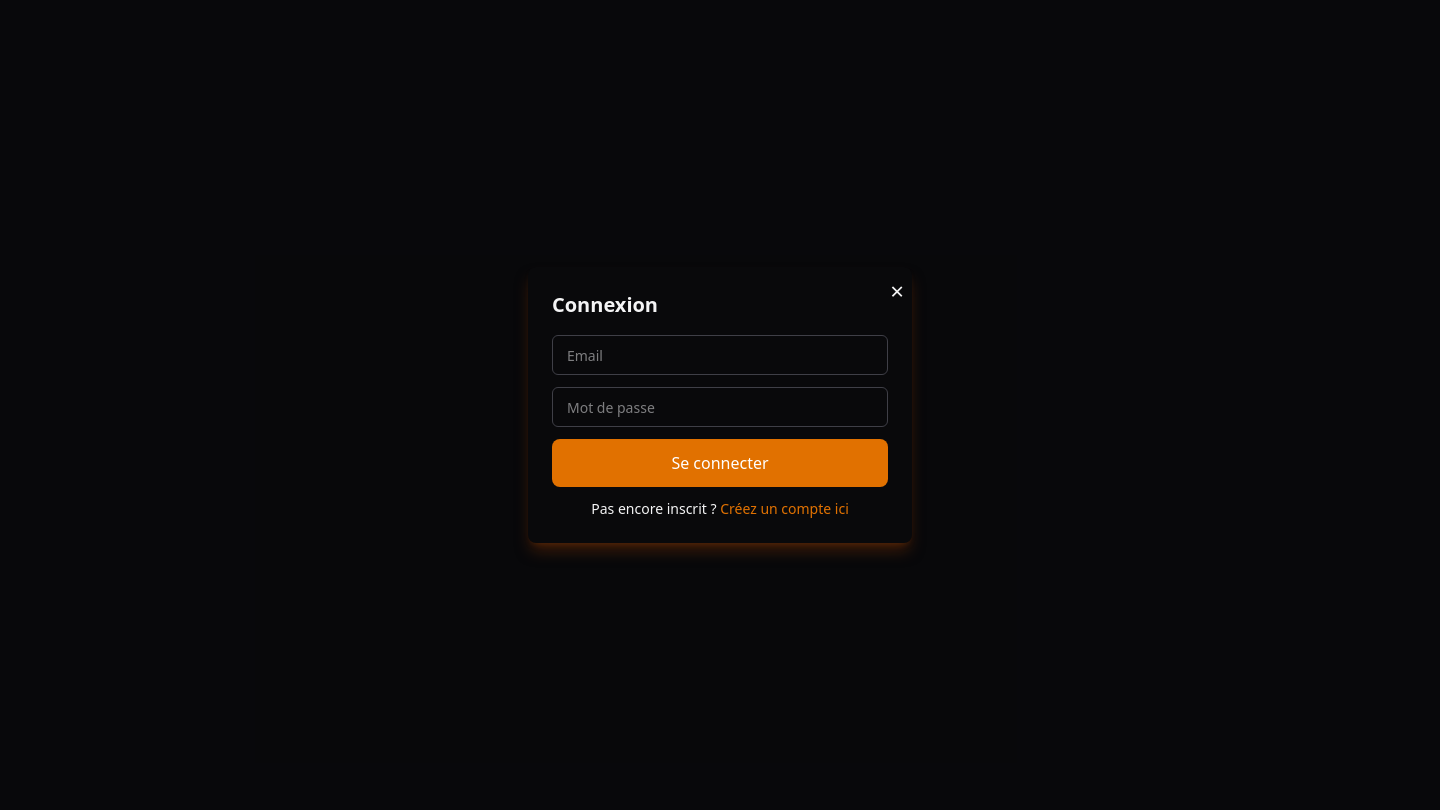
Test: LoginPage › shows the backend error message on failed login
In the field with placeholder "Email": (720,355) top-left (552, 335), bottom-right (888, 375), type "user@test.com"
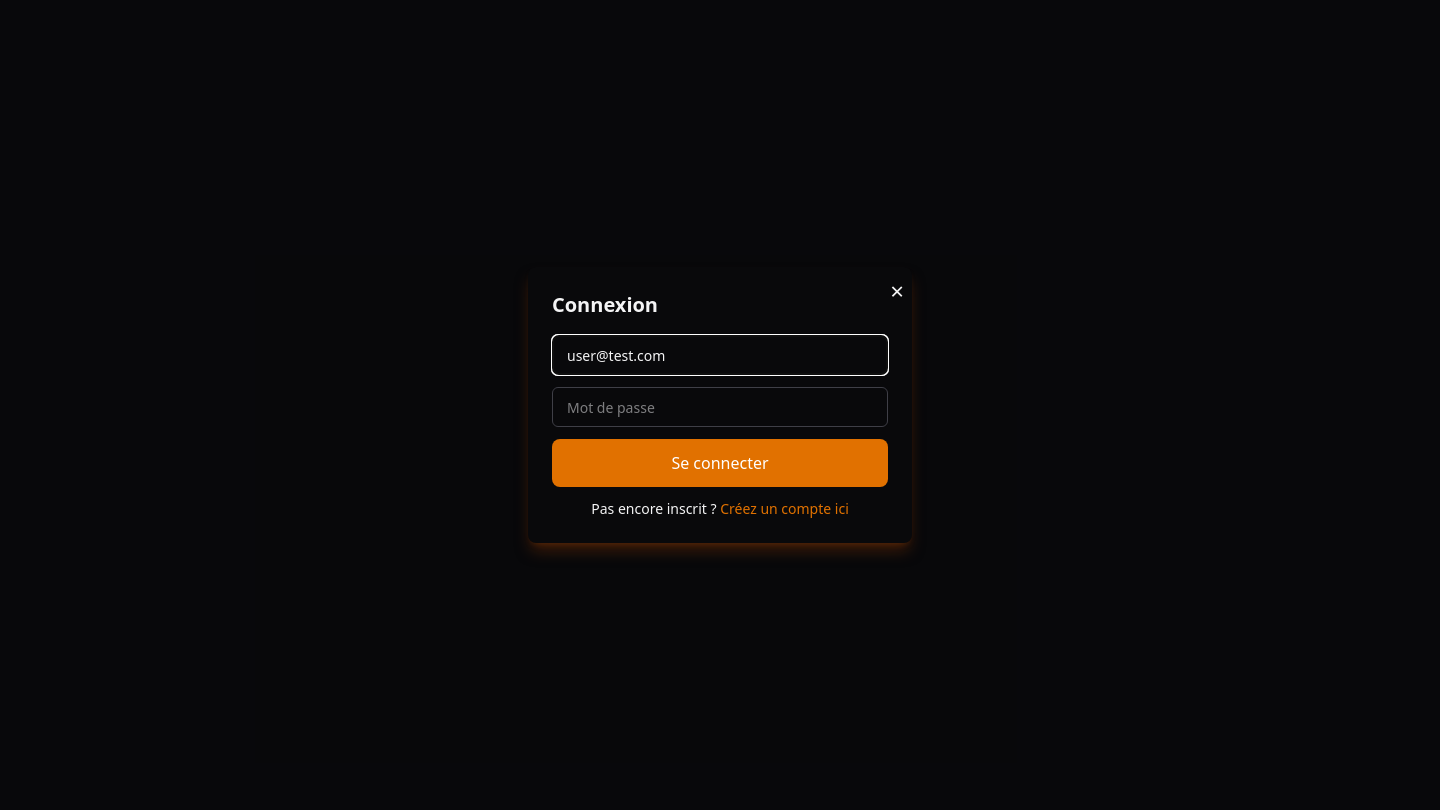
In the password field with placeholder "Mot de passe": (720,407) top-left (552, 387), bottom-right (888, 427), type "mauvais-mdp"
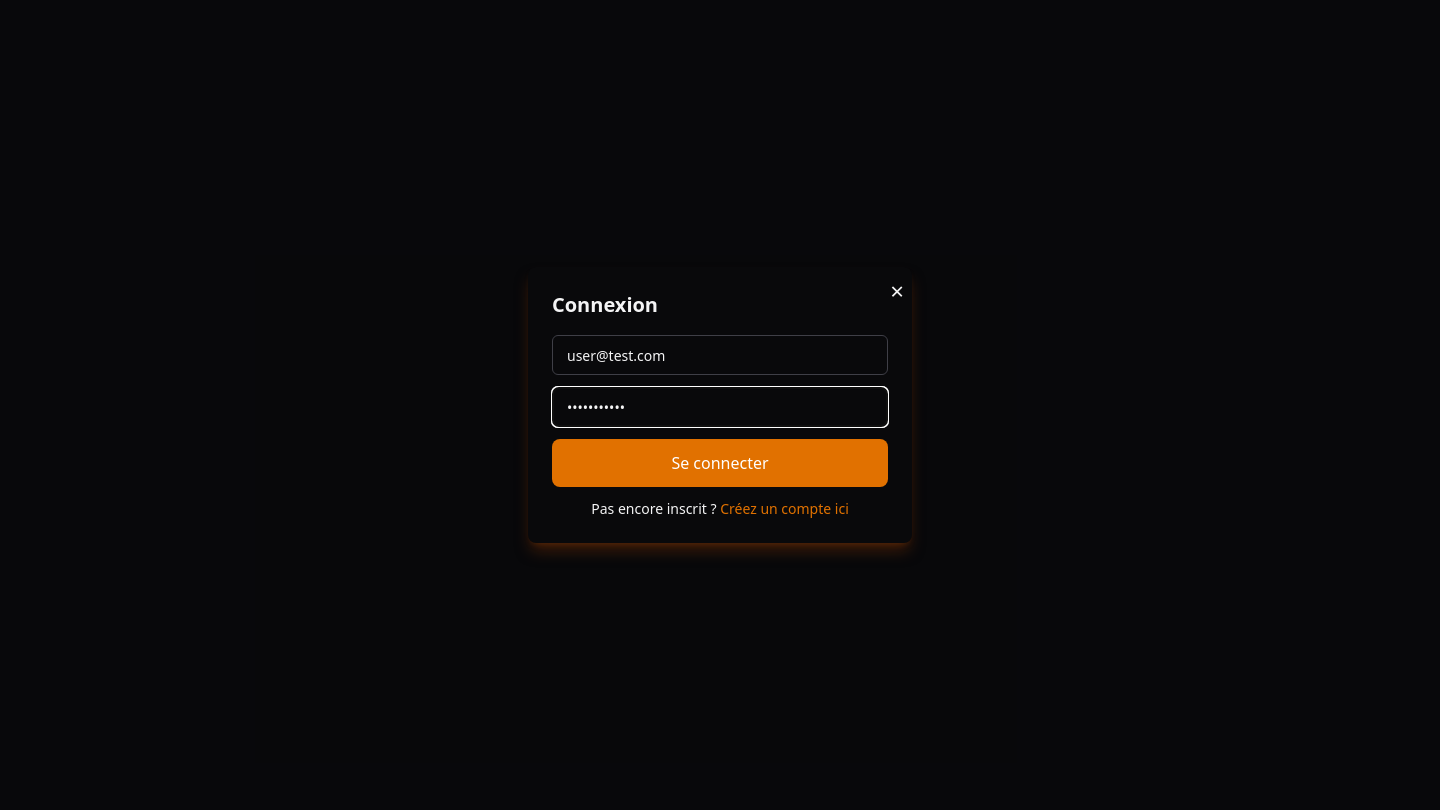
Click the button "Se connecter": (720,463) top-left (552, 439), bottom-right (888, 487)
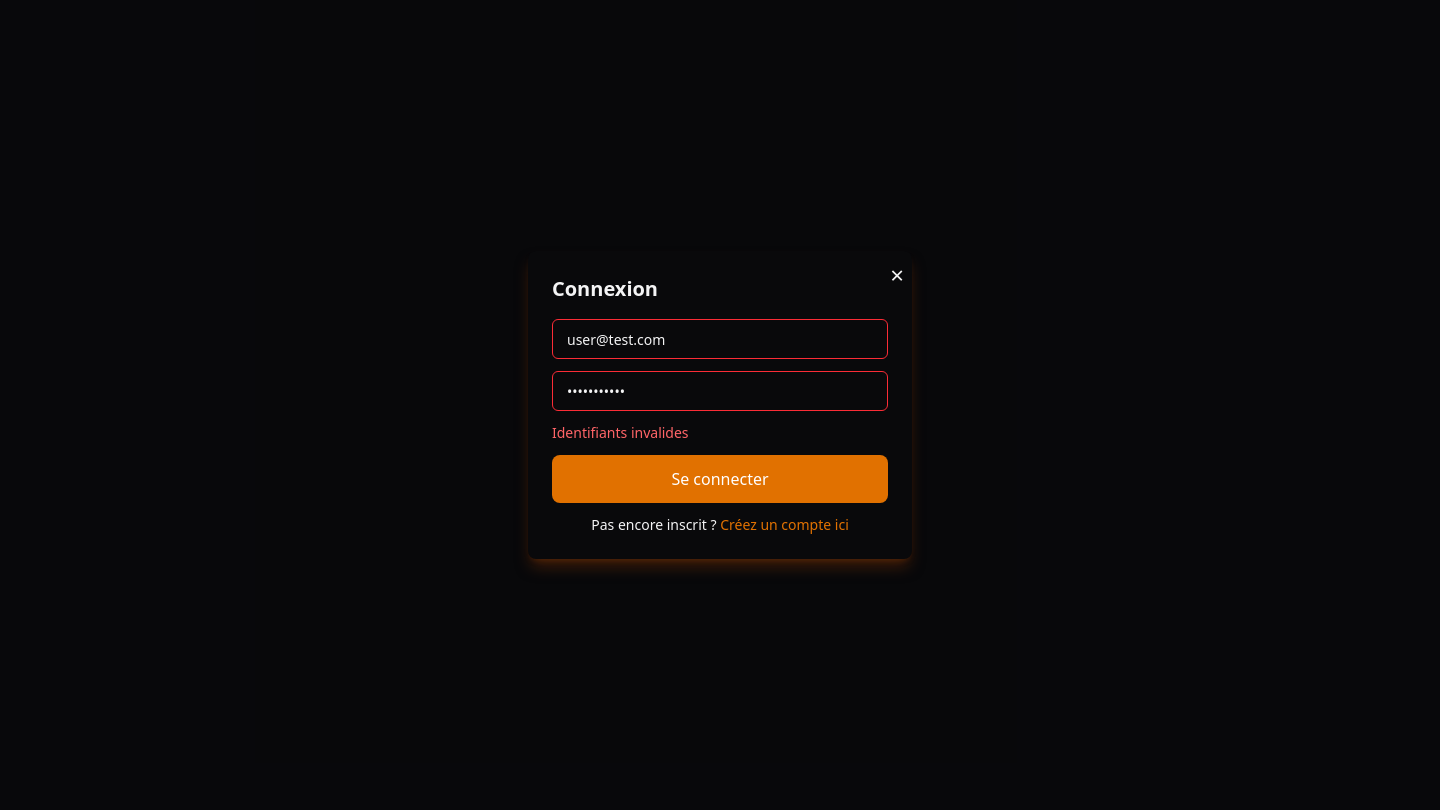
expect the text "Identifiants invalides" is shown: met, box top-left (552, 423), bottom-right (689, 442)
